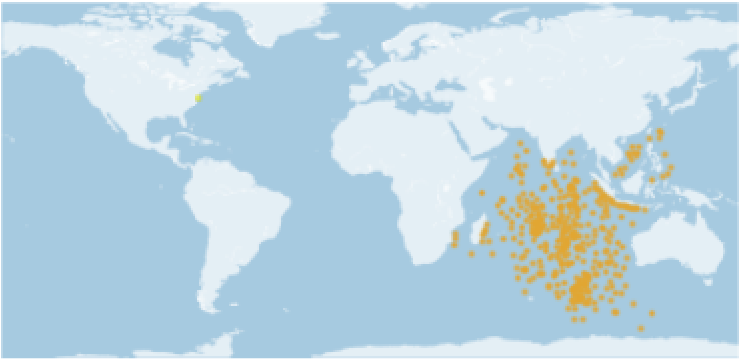

The page's visual inventory and layout, read from the dashboard file:
{"tool":"tableau","page":{"name":"Dashboard 1","canvas":[1000,1000],"units":"permille","ordinal":0},"visuals":[{"type":"worksheet","title":"Sheet 1","mark":"Automatic","box":[4.8,9.3,893.8,981.4]},{"type":"legend","title":"Sheet 1","param":"[federated.1s4b5z10wqg3g819w9l4s04un8us].[none:TYPE:nk]","box":[898.6,9.3,96.6,278.7]}]}

Visuals, with their boxes on the dashboard's canvas, which has no fixed pixel size, in thousandths of its width and height (x1, y1, x2, y2). These are canvas units, not pixel positions in the 742x359 screenshot, which may show the page scaled, cropped or inside an application window:
"Sheet 1" worksheet: <box>5,9,899,991</box>
"Sheet 1" legend: <box>899,9,995,288</box>
